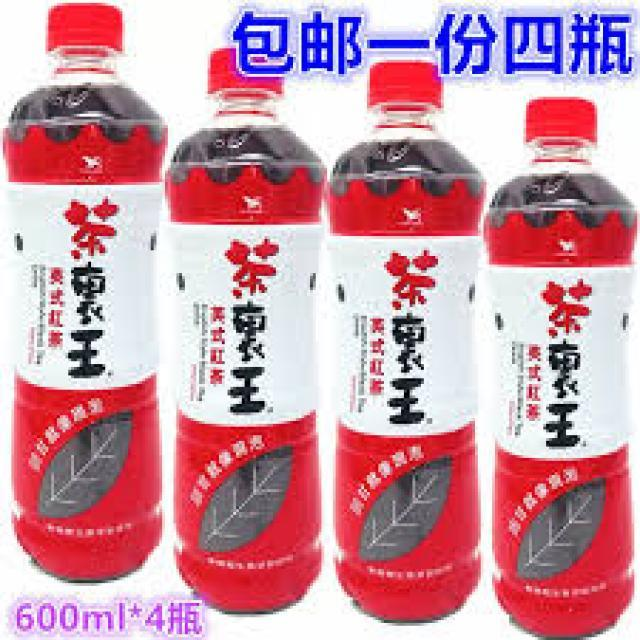ChaLiWong_BlackTea: (166, 42, 327, 608), (5, 6, 164, 576), (334, 49, 486, 611), (488, 92, 640, 640)
